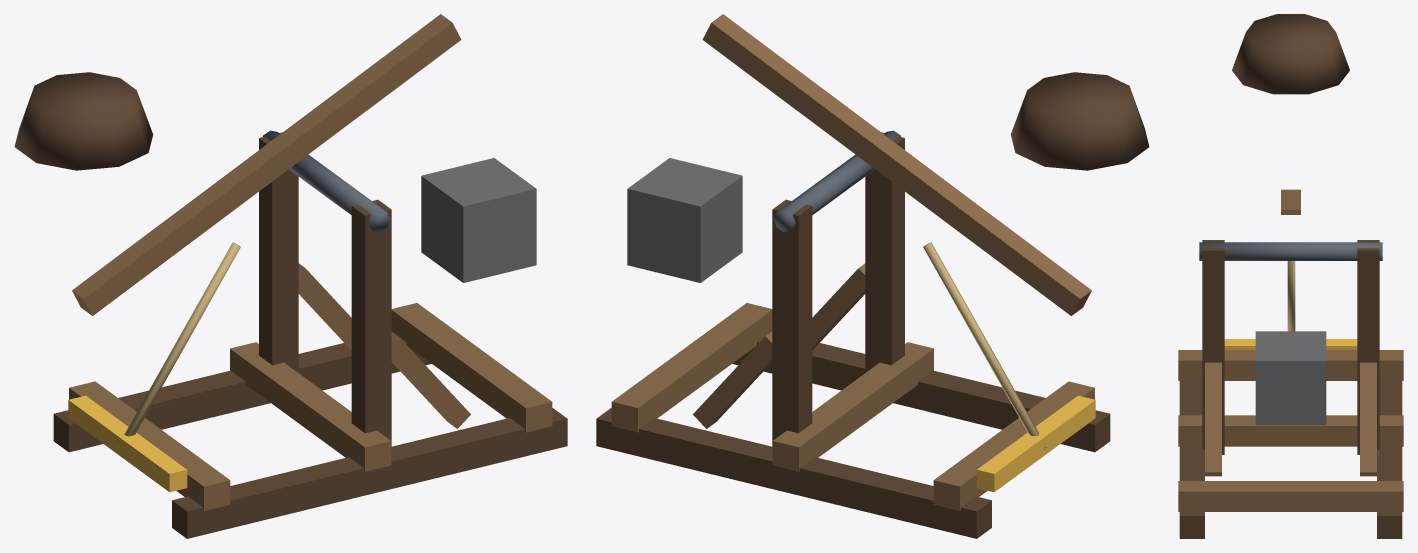
Rendered from mancinik.glb.
3 renders of one model, left to right at view 1: azimuth 30°, elevation 25°; view 2: azimuth 150°, elevation 25°; view 3: azimuth 270°, elevation 25°, orthographic. The views are drawn at different scales.
Visible parts, largest first — view 1: mancinik; view 2: mancinik; view 3: mancinik.
Part boxes in pixels (x1=…): mancinik: x1=14, y1=14, x2=567, y2=538; mancinik: x1=596, y1=14, x2=1149, y2=538; mancinik: x1=1178, y1=14, x2=1403, y2=538.
Bounding box in the file's own units: 3.35 × 2.64 × 1.6.
